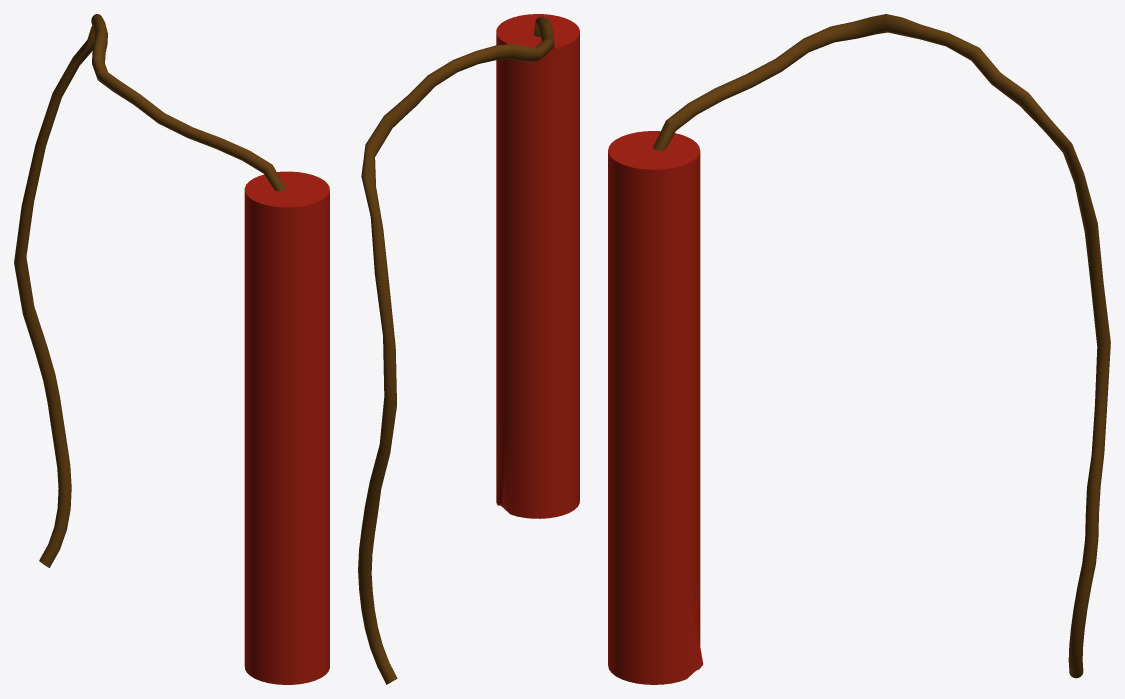
File: Bomb_NormalKind.fbx
3 views of the same model, side by side, from view 1: azimuth 30°, elevation 25°; view 2: azimuth 150°, elevation 25°; view 3: azimuth 270°, elevation 25° (orthographic). The views are drawn at different scales.
Parts seen in each view (by area): view 1: Sphere; view 2: Sphere; view 3: Sphere.
Boxes of the visible parts, left/top/right/bottom form: Sphere: left=14, top=14, right=329, bottom=684; Sphere: left=358, top=14, right=579, bottom=684; Sphere: left=608, top=14, right=1110, bottom=684.
Bounding box in the file's own units: 49.95 × 213 × 151.
